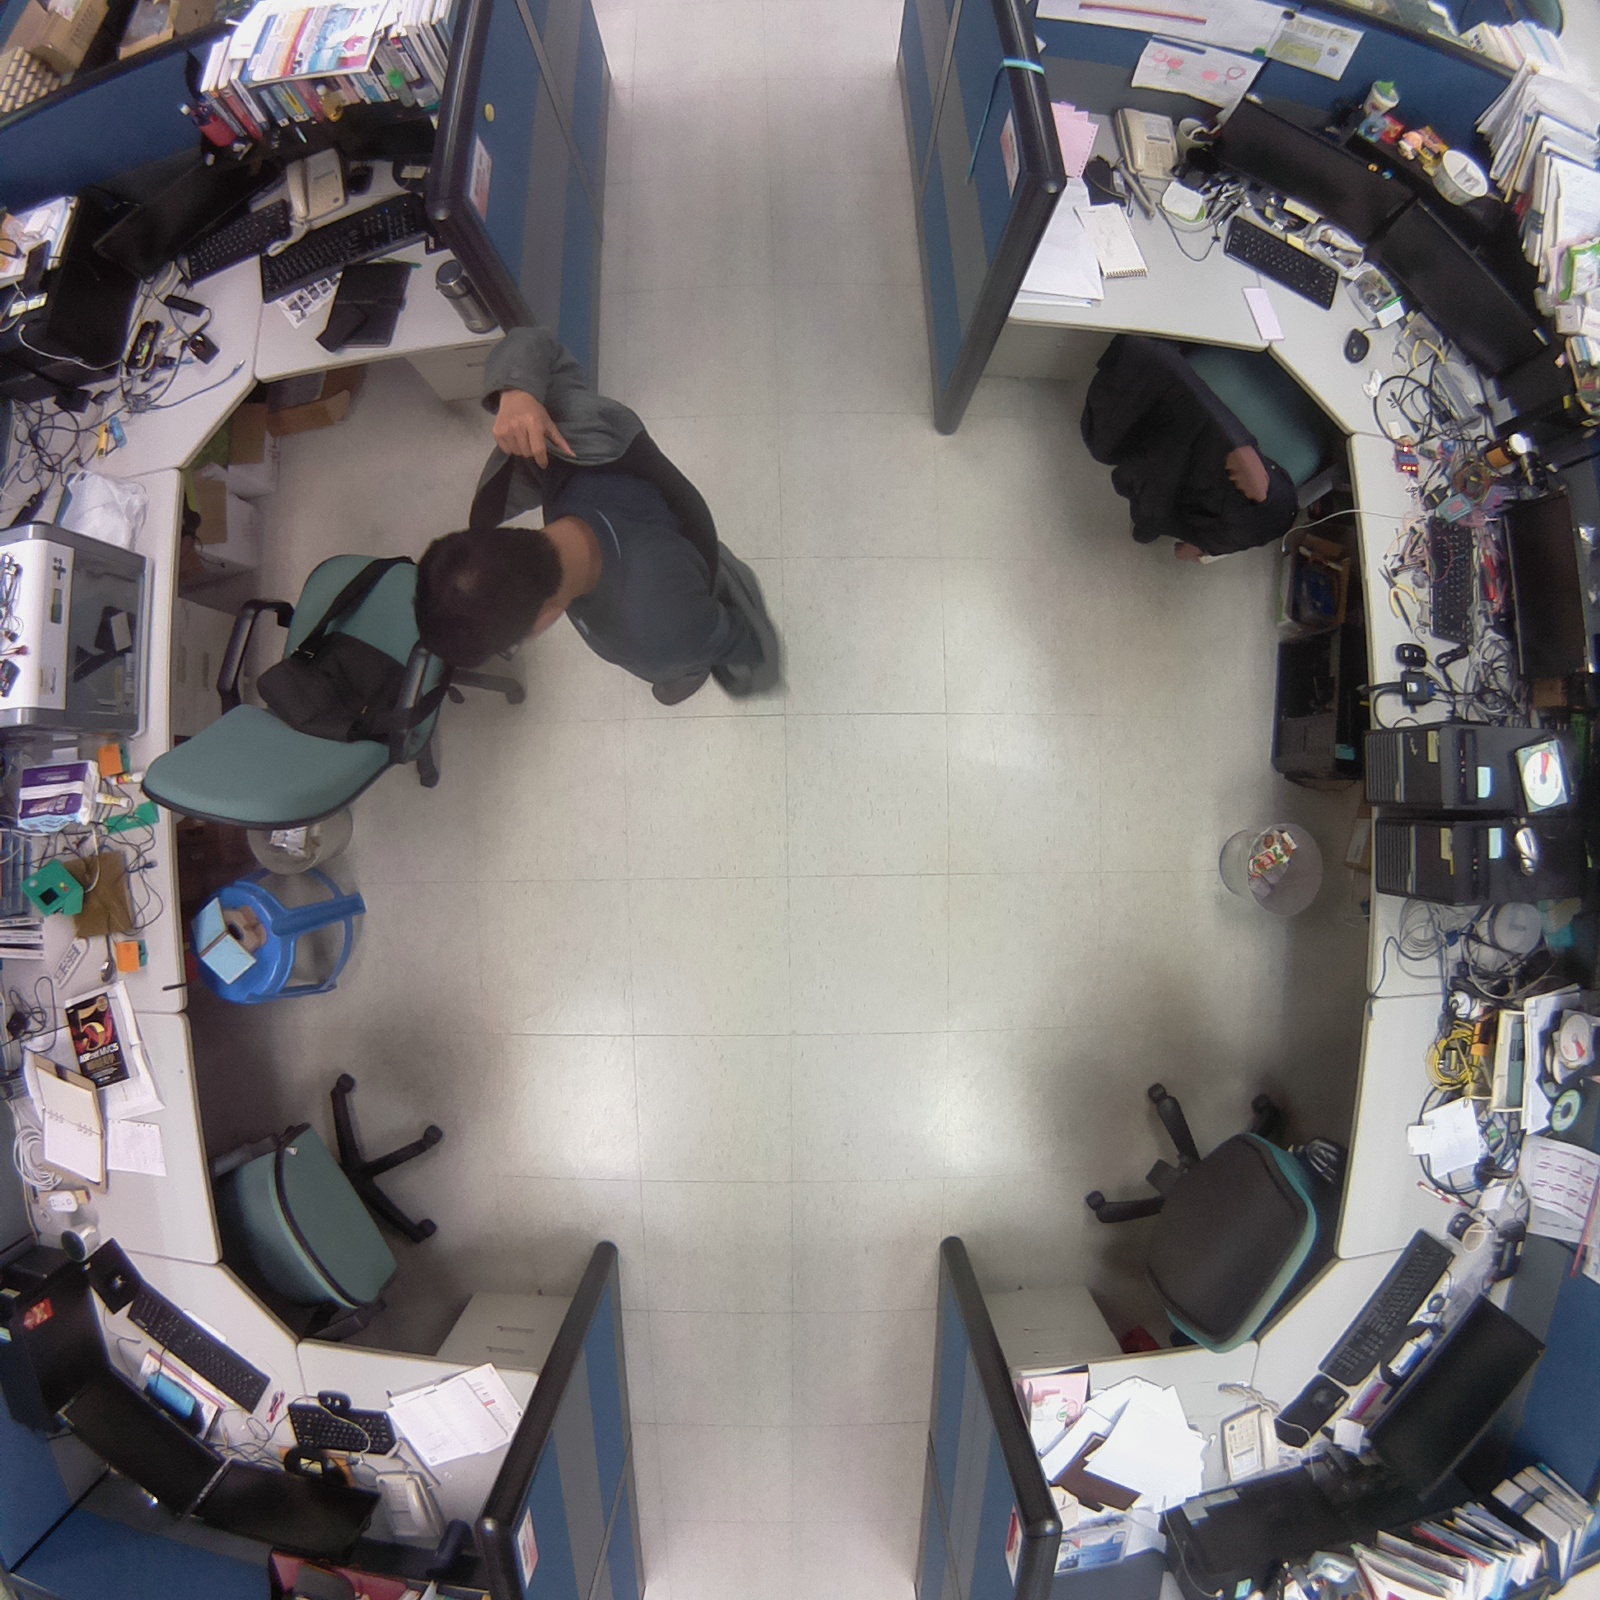chair: (117, 529, 453, 847), (1053, 1060, 1368, 1370), (186, 1060, 470, 1355), (1068, 317, 1360, 575)
head: (408, 519, 574, 678)
standing: (399, 324, 799, 745)
